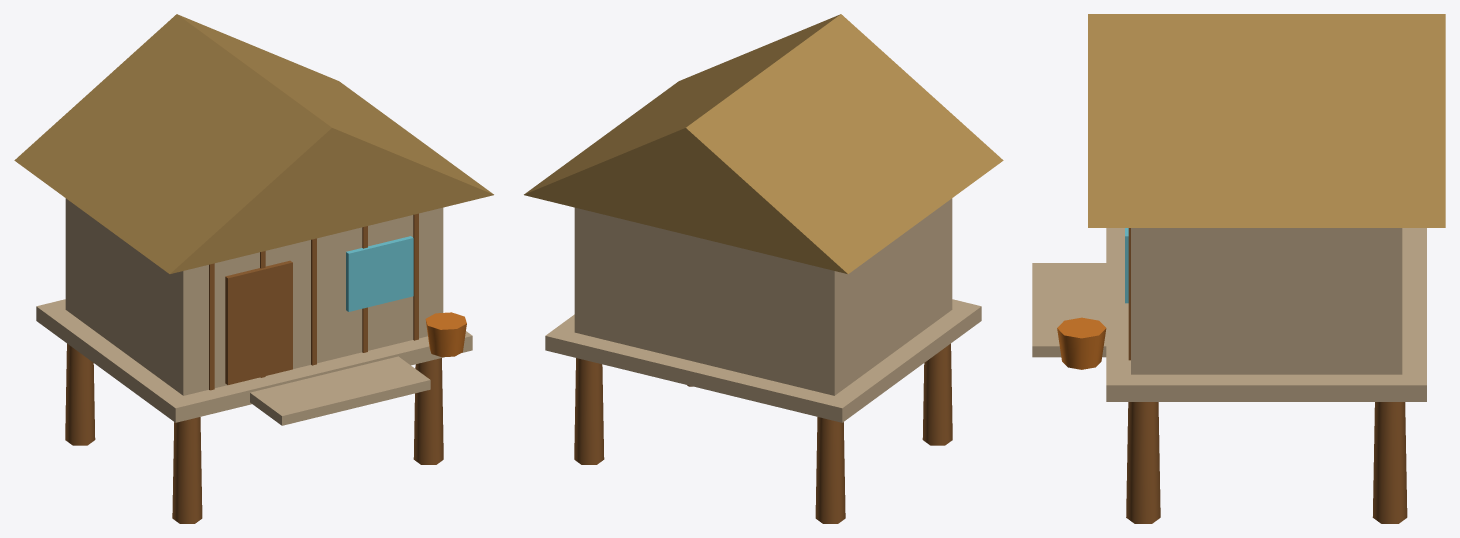
Rendered from fishingHut.glb.
3 renders of one model, left to right at view 1: azimuth 30°, elevation 25°; view 2: azimuth 150°, elevation 25°; view 3: azimuth 270°, elevation 25°, orthographic. The views are drawn at different scales.
Parts seen in each view (by area): view 1: fishingHut_mesh; view 2: fishingHut_mesh; view 3: fishingHut_mesh.
Boxes of the visible parts, <box> form: fishingHut_mesh: <box>14,14,493,523</box>; fishingHut_mesh: <box>524,14,1003,523</box>; fishingHut_mesh: <box>1032,14,1445,523</box>.
Size of the model in its own units: 3.5 by 3.9 by 3.35.
